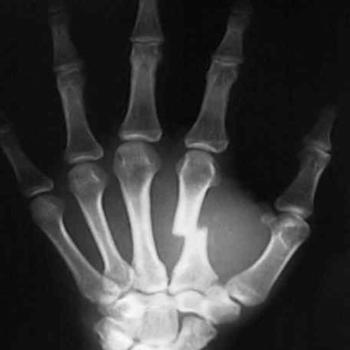Fracture: (168, 221, 211, 244)
